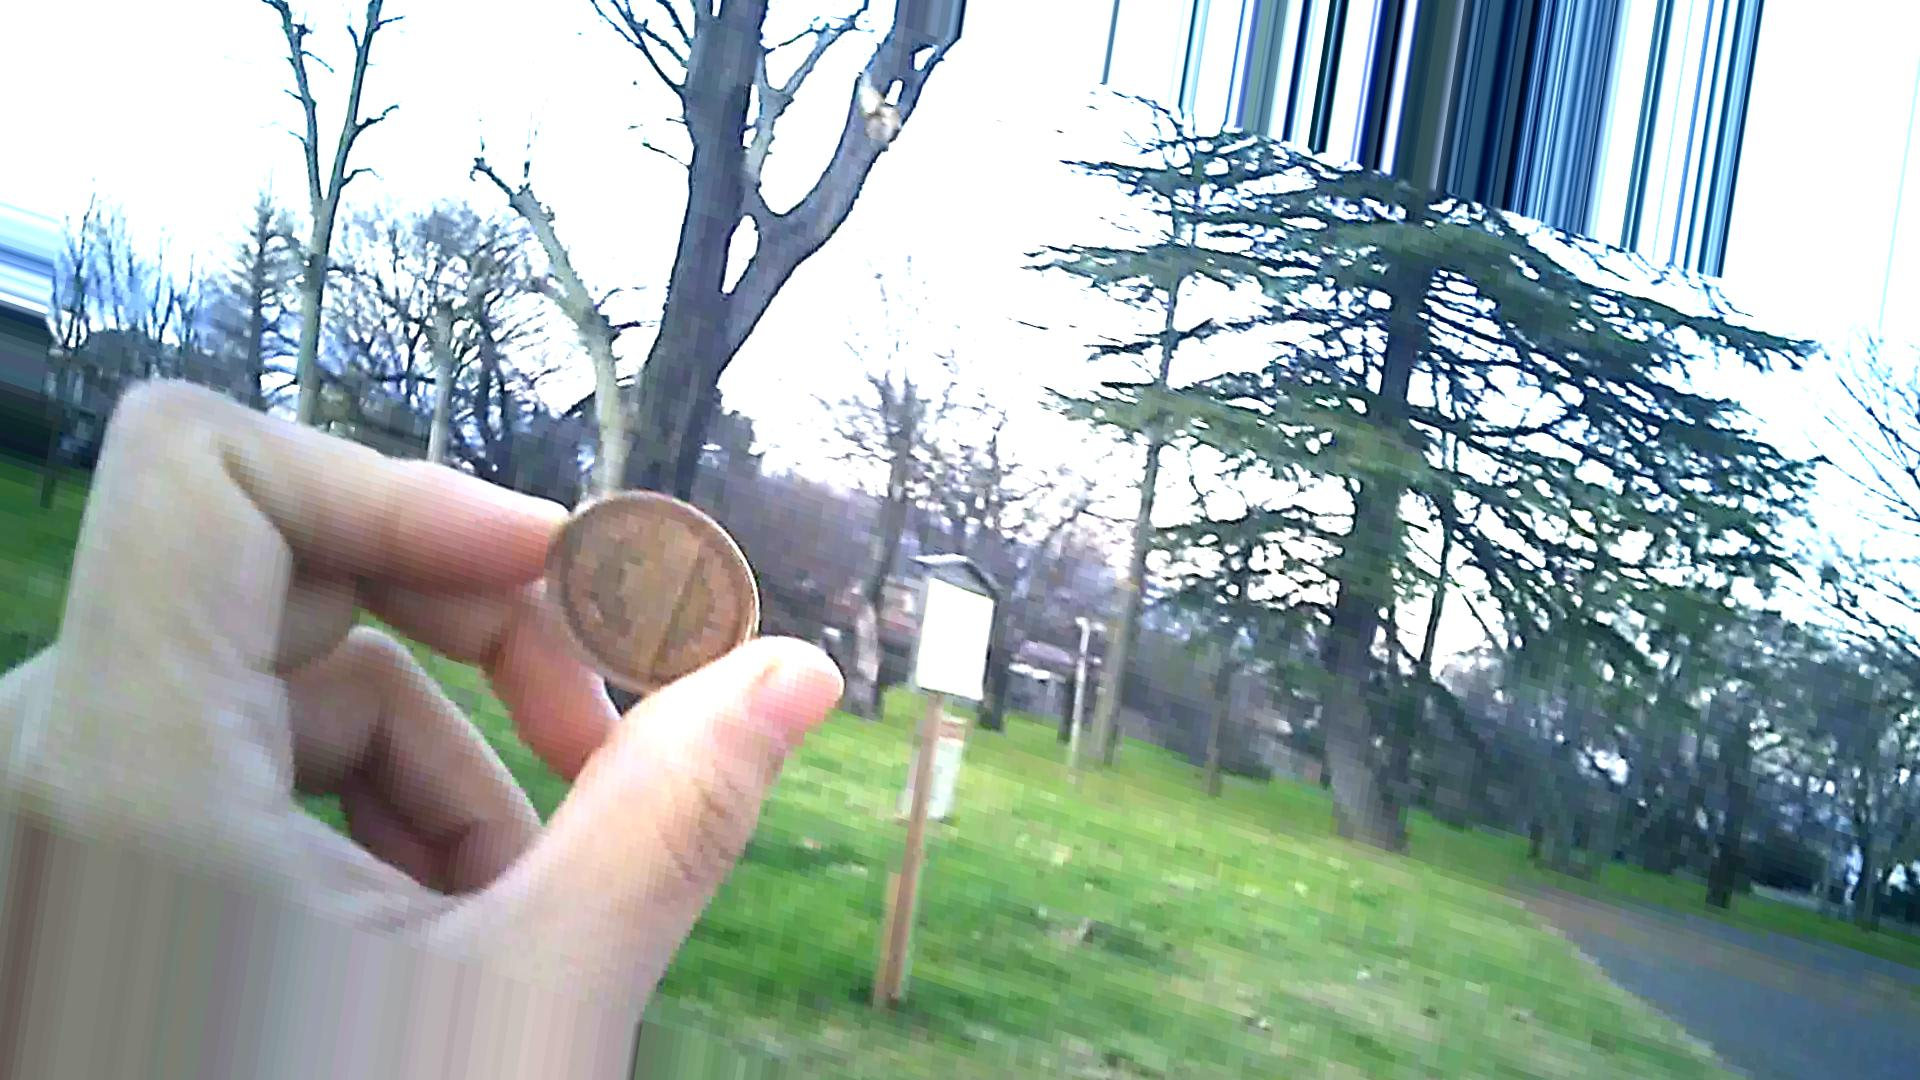10 Yen: (527, 462, 750, 687)
